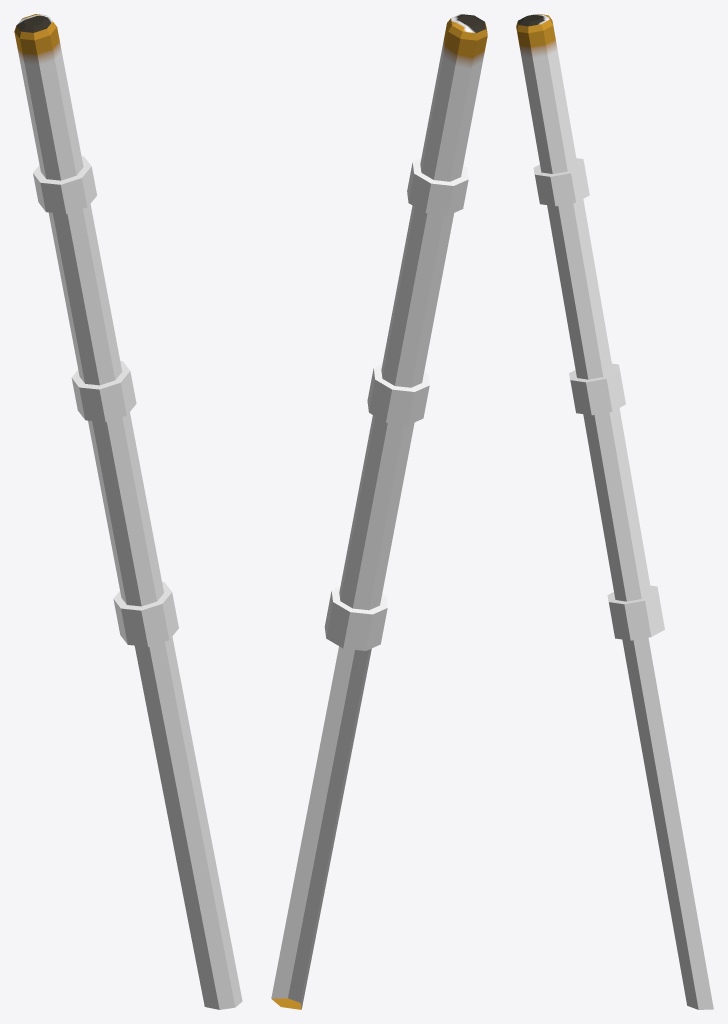
The model's file is tiang_banner1.obj.
3 views of the same model, side by side, from view 1: azimuth 30°, elevation 25°; view 2: azimuth 150°, elevation 25°; view 3: azimuth 330°, elevation 25° (orthographic). The views are drawn at different scales.
Visible parts, largest first — view 1: StallMesh; view 2: StallMesh; view 3: StallMesh.
Boxes of the visible parts, x1,y1,x2,y2 form: StallMesh: (14, 14, 242, 1009); StallMesh: (271, 14, 487, 1009); StallMesh: (516, 14, 713, 1009).
Bounding box in the file's own units: 0.033 × 0.1478 × 0.00762.
